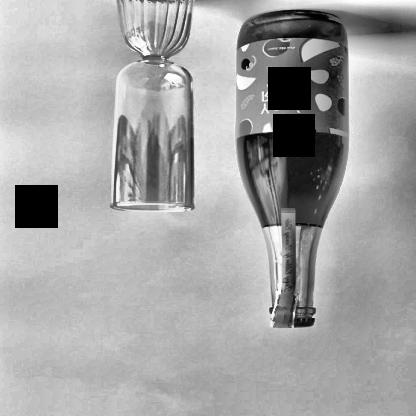yoserose: (236, 40, 350, 138)
